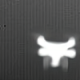plane: (31, 30, 79, 72)
